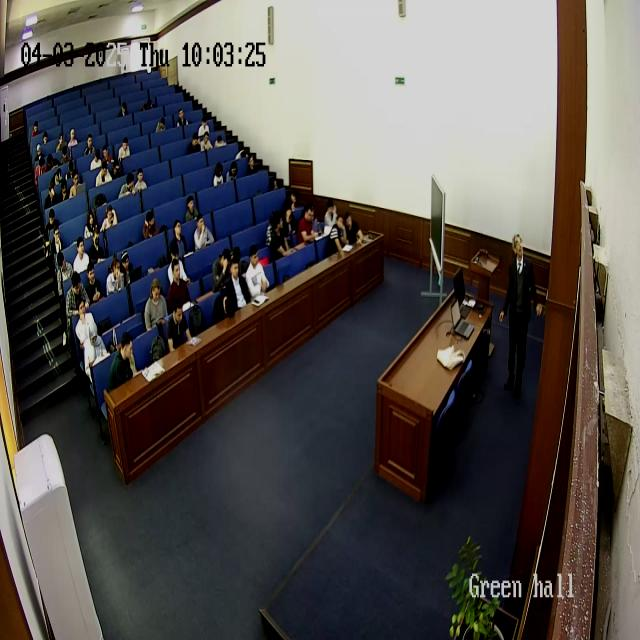person: (500, 233, 544, 399), (75, 296, 107, 382), (108, 333, 139, 391), (66, 271, 90, 341), (244, 245, 272, 299), (226, 253, 252, 310), (166, 255, 190, 315), (144, 278, 169, 334), (166, 301, 192, 351), (55, 246, 75, 305), (269, 209, 291, 259), (296, 203, 320, 246), (211, 287, 238, 325), (80, 262, 102, 308), (211, 247, 233, 293), (192, 212, 215, 250), (105, 253, 125, 296), (169, 220, 188, 262), (327, 219, 347, 256), (73, 237, 91, 276), (88, 225, 106, 264), (343, 212, 363, 246), (98, 201, 118, 232), (46, 221, 62, 257), (323, 197, 339, 232), (119, 250, 134, 287), (119, 170, 137, 200), (142, 211, 160, 240), (96, 159, 114, 188), (45, 179, 61, 209), (183, 195, 200, 223), (34, 154, 48, 186), (132, 168, 148, 194), (84, 209, 98, 238), (226, 157, 240, 186), (101, 143, 113, 173), (43, 207, 58, 231), (149, 116, 168, 134), (215, 132, 232, 152), (68, 172, 80, 200), (172, 110, 188, 131), (91, 146, 105, 170), (244, 154, 258, 177), (212, 162, 225, 186), (117, 142, 131, 164), (188, 133, 202, 155), (199, 132, 213, 152), (82, 133, 93, 157), (116, 100, 129, 118), (232, 145, 246, 161), (199, 116, 210, 136), (60, 149, 74, 164), (54, 134, 66, 150), (34, 144, 46, 160), (66, 128, 77, 144), (31, 121, 40, 140), (38, 129, 50, 143), (48, 157, 60, 171)
